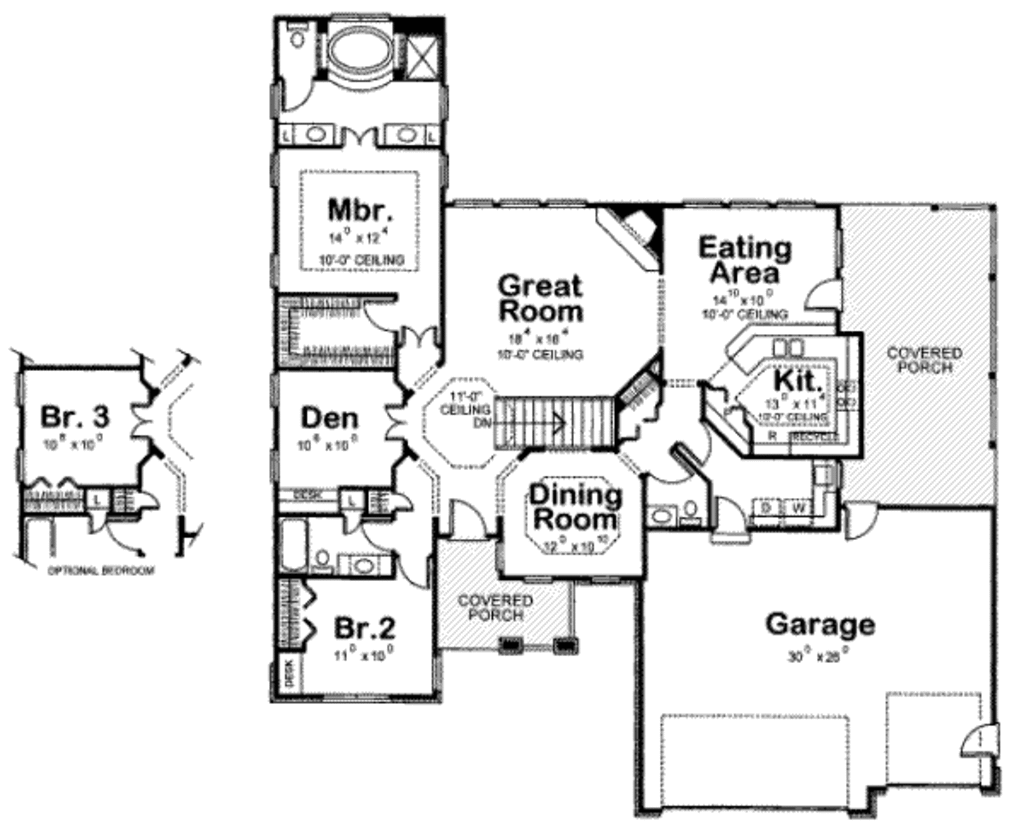door: (958, 718, 1012, 764), (634, 443, 695, 483), (443, 493, 489, 541), (277, 72, 322, 118), (714, 495, 753, 548), (800, 271, 852, 310), (380, 395, 418, 447), (356, 290, 401, 333), (676, 419, 715, 468), (843, 500, 882, 546), (125, 397, 163, 440), (395, 553, 437, 590), (394, 319, 440, 351), (359, 516, 395, 553), (385, 488, 424, 520), (341, 126, 385, 153), (336, 505, 364, 538), (82, 507, 114, 534), (137, 486, 161, 516)
large_sink: (676, 496, 711, 530), (313, 537, 340, 581), (281, 18, 306, 48)
small_sink: (336, 554, 402, 583), (288, 119, 334, 148), (383, 123, 427, 145), (647, 502, 681, 530)
stairs: (488, 393, 618, 447)
tub: (269, 516, 308, 575)
twin_sink: (764, 331, 807, 359)
window: (453, 190, 594, 210), (672, 194, 818, 210), (264, 369, 284, 419), (263, 442, 285, 487)
